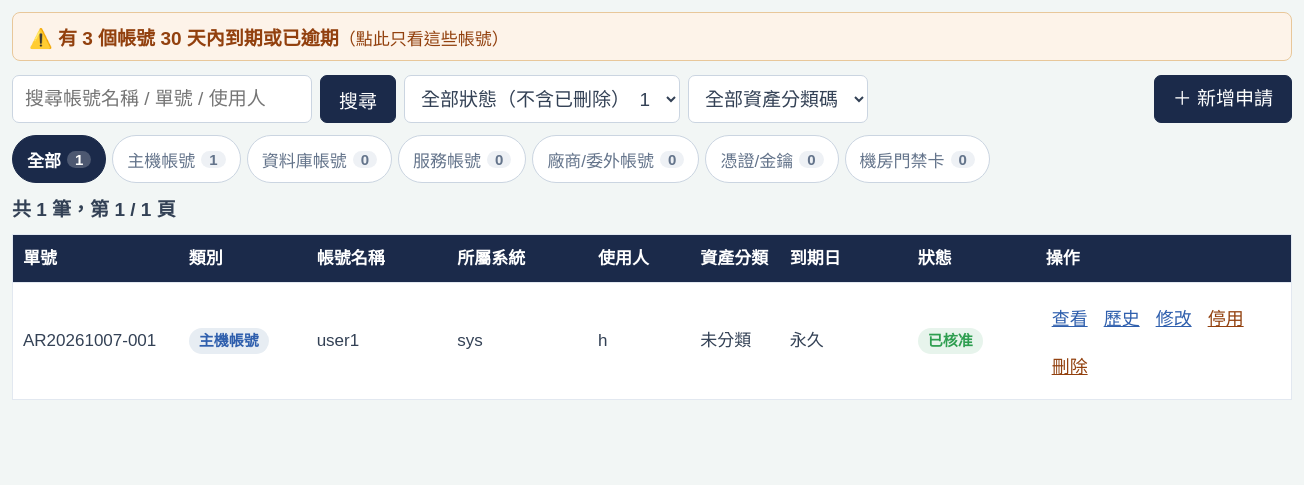
it: 帳號列表 › U14 橫幅：點擊套用到期篩選（expiring=1）；從 query expiring=1 進來預設套用
This screenshot has width=1304, height=485.
Click the button with class "expiry-banner" at (184, 38), box [12, 12, 1292, 61]
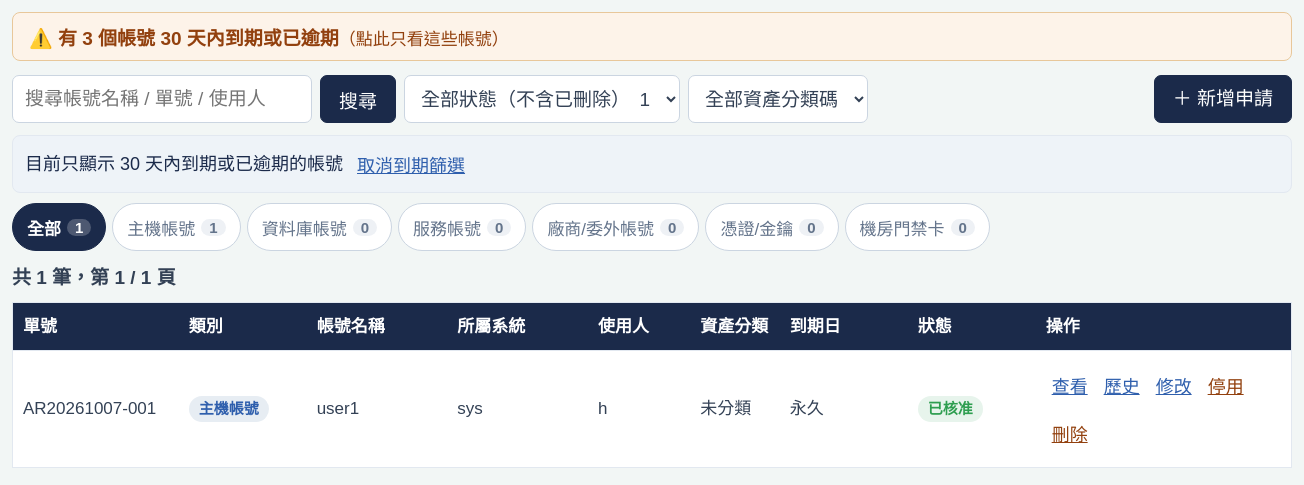
Expected: the element with class "filter-chip" is shown, [12, 135, 1292, 193]
